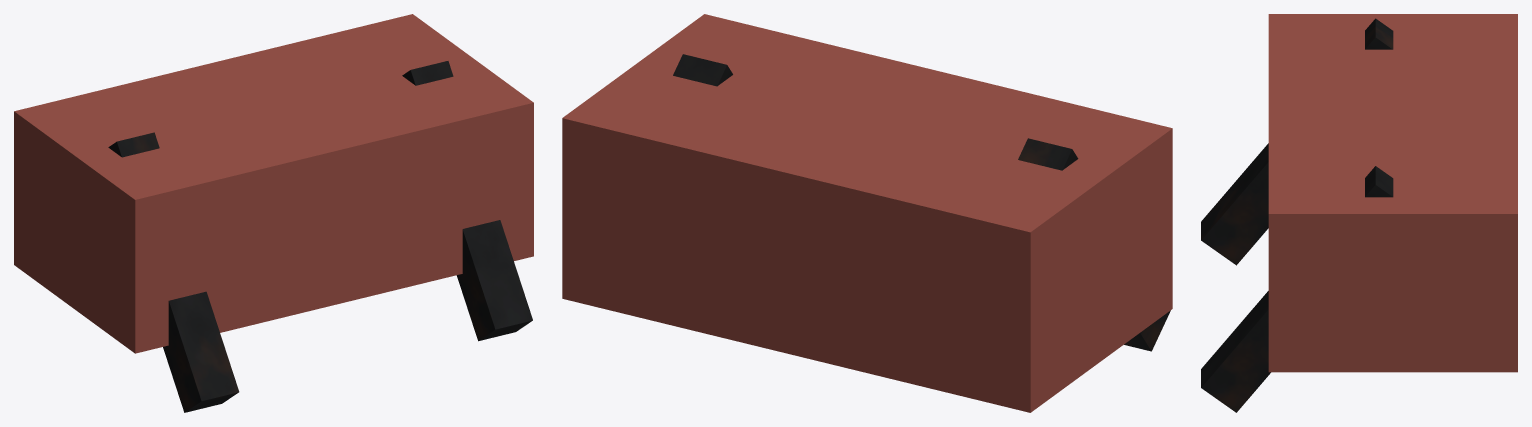
File: A_bufferstop.glb
3 renders of one model, left to right at view 1: azimuth 30°, elevation 25°; view 2: azimuth 150°, elevation 25°; view 3: azimuth 270°, elevation 25°, orthographic. The views are drawn at different scales.
Parts seen in each view (by area): view 1: A_bufferstop; view 2: A_bufferstop; view 3: A_bufferstop.
Part boxes in pixels (box(x1,y1,x2,y2)): A_bufferstop: box(14, 14, 533, 412); A_bufferstop: box(562, 14, 1172, 412); A_bufferstop: box(1201, 14, 1517, 412).
Bounding box in the file's own units: 1.9 × 1.01 × 1.27.
Materials: 2 (1 with a texture image).
